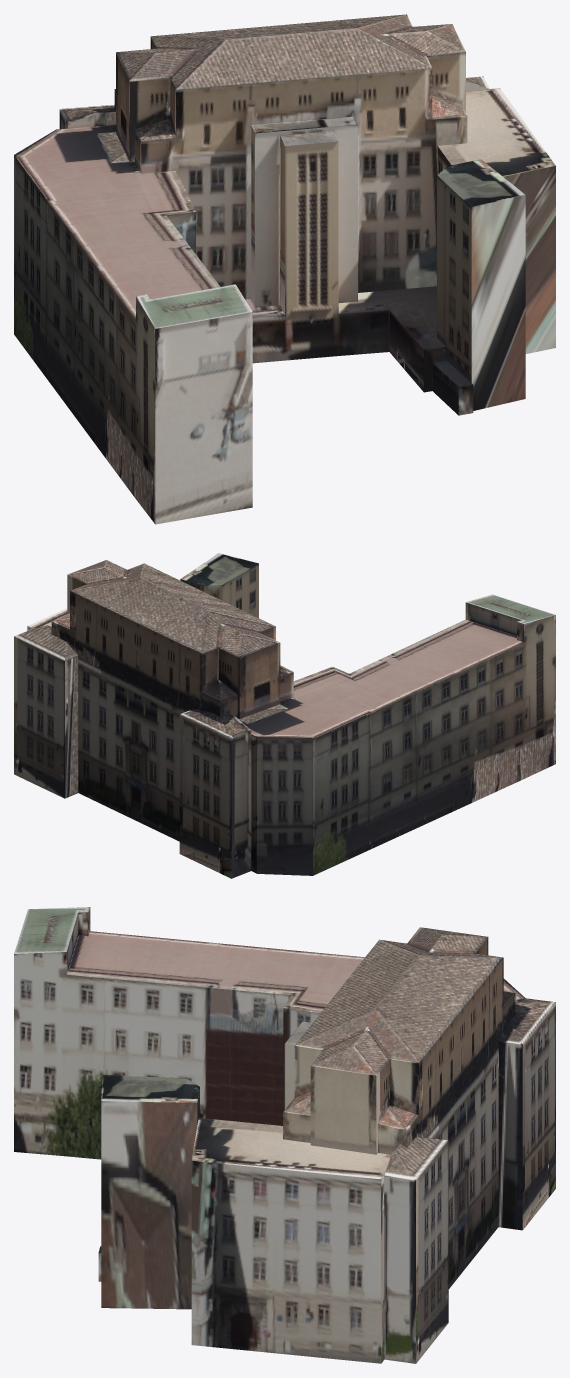
3 views of the same model, one above another, from view 1: azimuth 30°, elevation 25°; view 2: azimuth 150°, elevation 25°; view 3: azimuth 270°, elevation 25° (orthographic). The views are drawn at different scales.
Visible parts, largest first — view 1: Z_UP; view 2: Z_UP; view 3: Z_UP.
Boxes of the visible parts, left/top/right/bottom form: Z_UP: left=14, top=14, right=555, bottom=524; Z_UP: left=14, top=553, right=555, bottom=878; Z_UP: left=14, top=907, right=555, bottom=1363.
Bounding box in the file's own units: 59.5 × 30.56 × 53.1.
2 materials, 1 textured.
